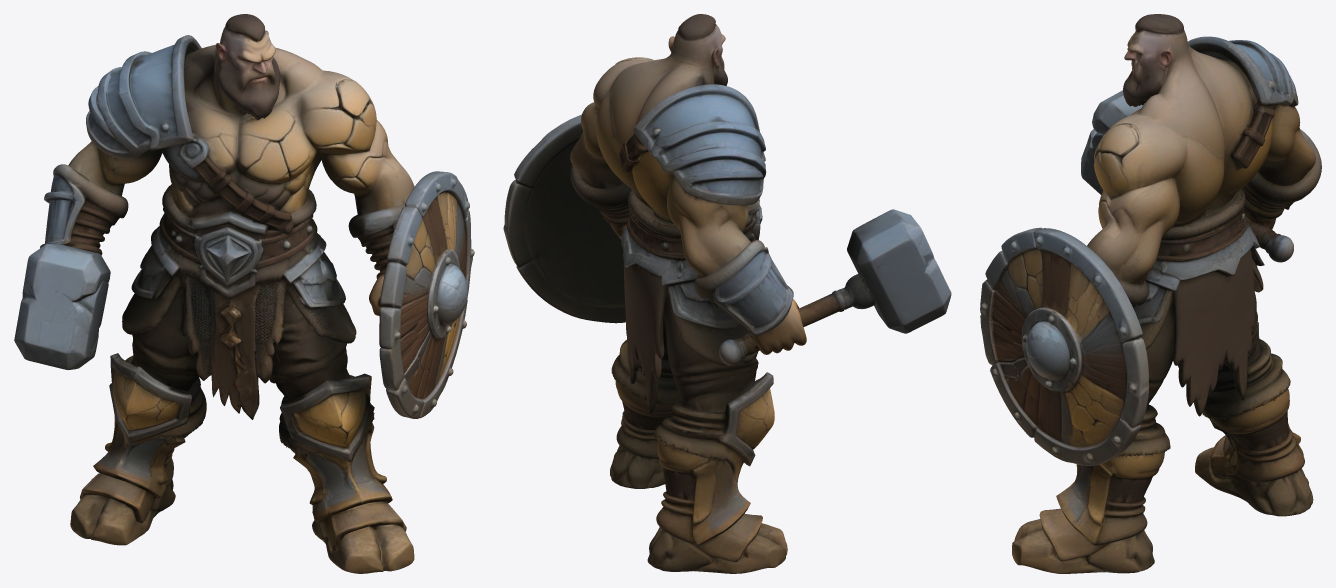
The model's file is hero_m_2.glb.
The picture shows the model from 3 angles, left to right: view 1: azimuth 30°, elevation 25°; view 2: azimuth 150°, elevation 25°; view 3: azimuth 270°, elevation 25°; orthographic projection. The views are drawn at different scales.
Parts seen in each view (by area): view 1: node_0; view 2: node_0; view 3: node_0.
Boxes of the visible parts, box(x1,y1,x2,y2) form: node_0: box(14, 14, 474, 573); node_0: box(503, 14, 951, 573); node_0: box(980, 14, 1321, 573).
Bounding box in the file's own units: 0.9453 × 1.01 × 0.6196.
1 material, 1 textured.
